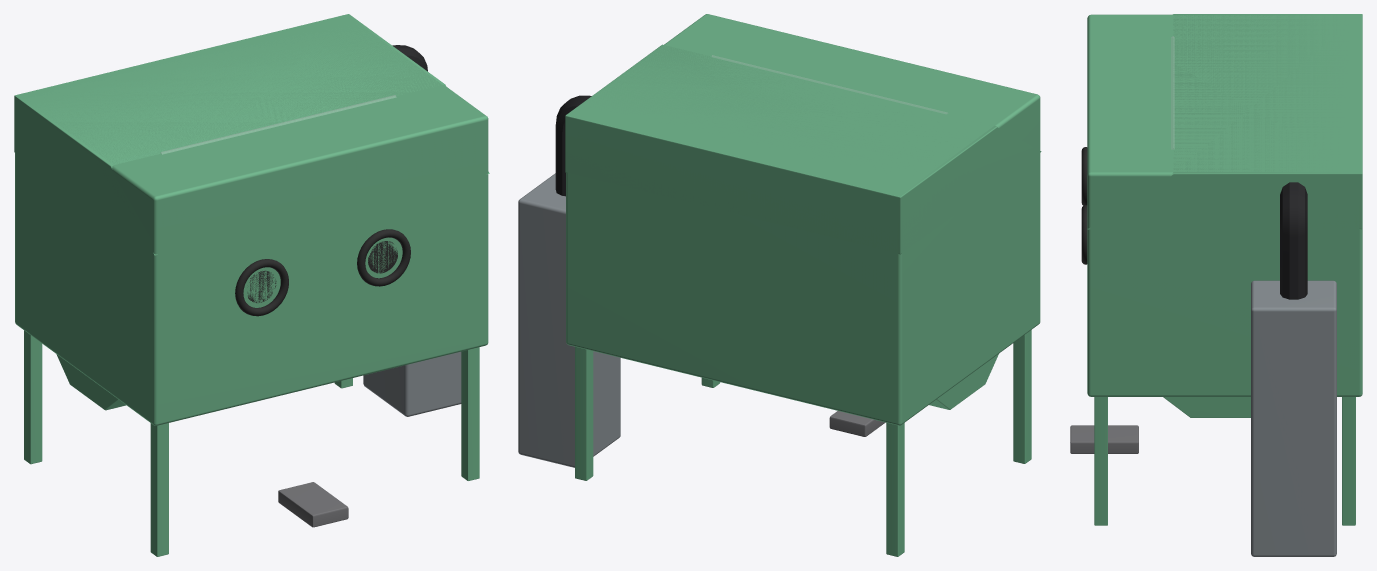
File: repair_blaster.glb
3 renders of one model, left to right at view 1: azimuth 30°, elevation 25°; view 2: azimuth 150°, elevation 25°; view 3: azimuth 270°, elevation 25°, orthographic. The views are drawn at different scales.
Visible parts, largest first — view 1: SM_repair_blaster; view 2: SM_repair_blaster; view 3: SM_repair_blaster.
Boxes of the visible parts, bbox=[...] form: SM_repair_blaster: bbox=[14, 14, 489, 556]; SM_repair_blaster: bbox=[518, 14, 1041, 556]; SM_repair_blaster: bbox=[1070, 14, 1362, 556].
Size of the model in its own units: 1.3 by 1.14 by 0.85.
